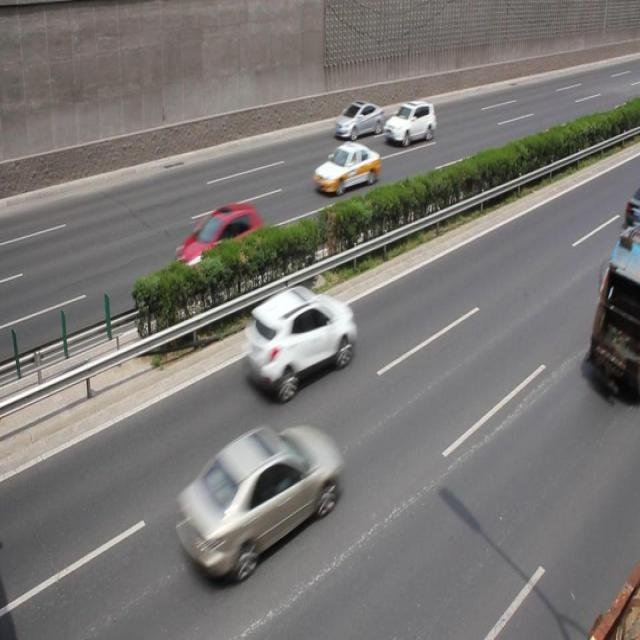bus: (586, 199, 640, 397)
car: (170, 426, 341, 571), (240, 286, 354, 400), (173, 201, 264, 290), (311, 140, 380, 198), (383, 102, 436, 146), (334, 99, 382, 142)
